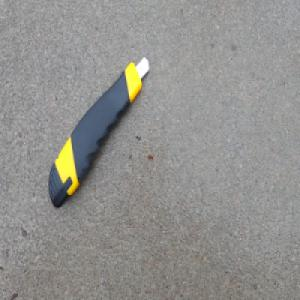Cutter: (49, 54, 151, 209)
